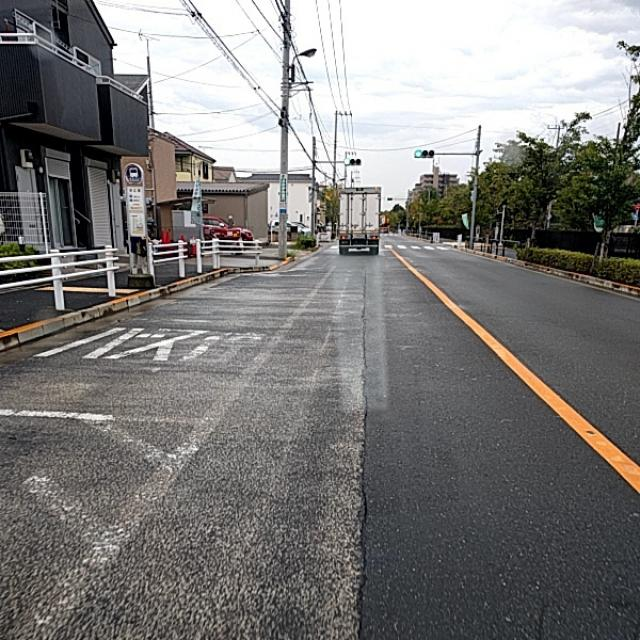pothole: (337, 502, 362, 605)
